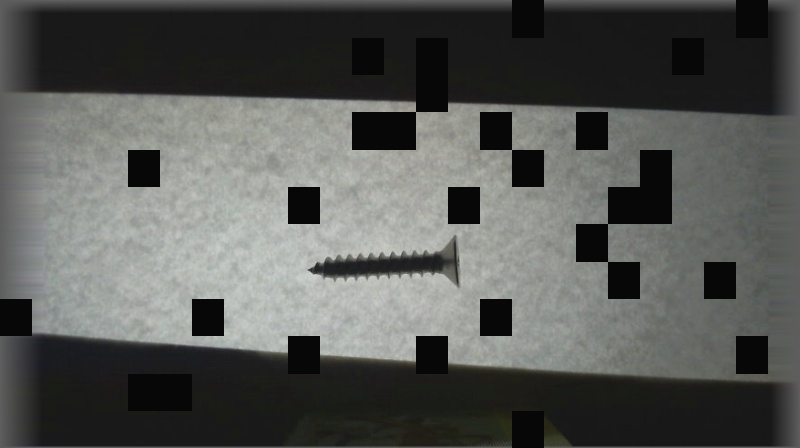S001: (305, 232, 465, 290)
